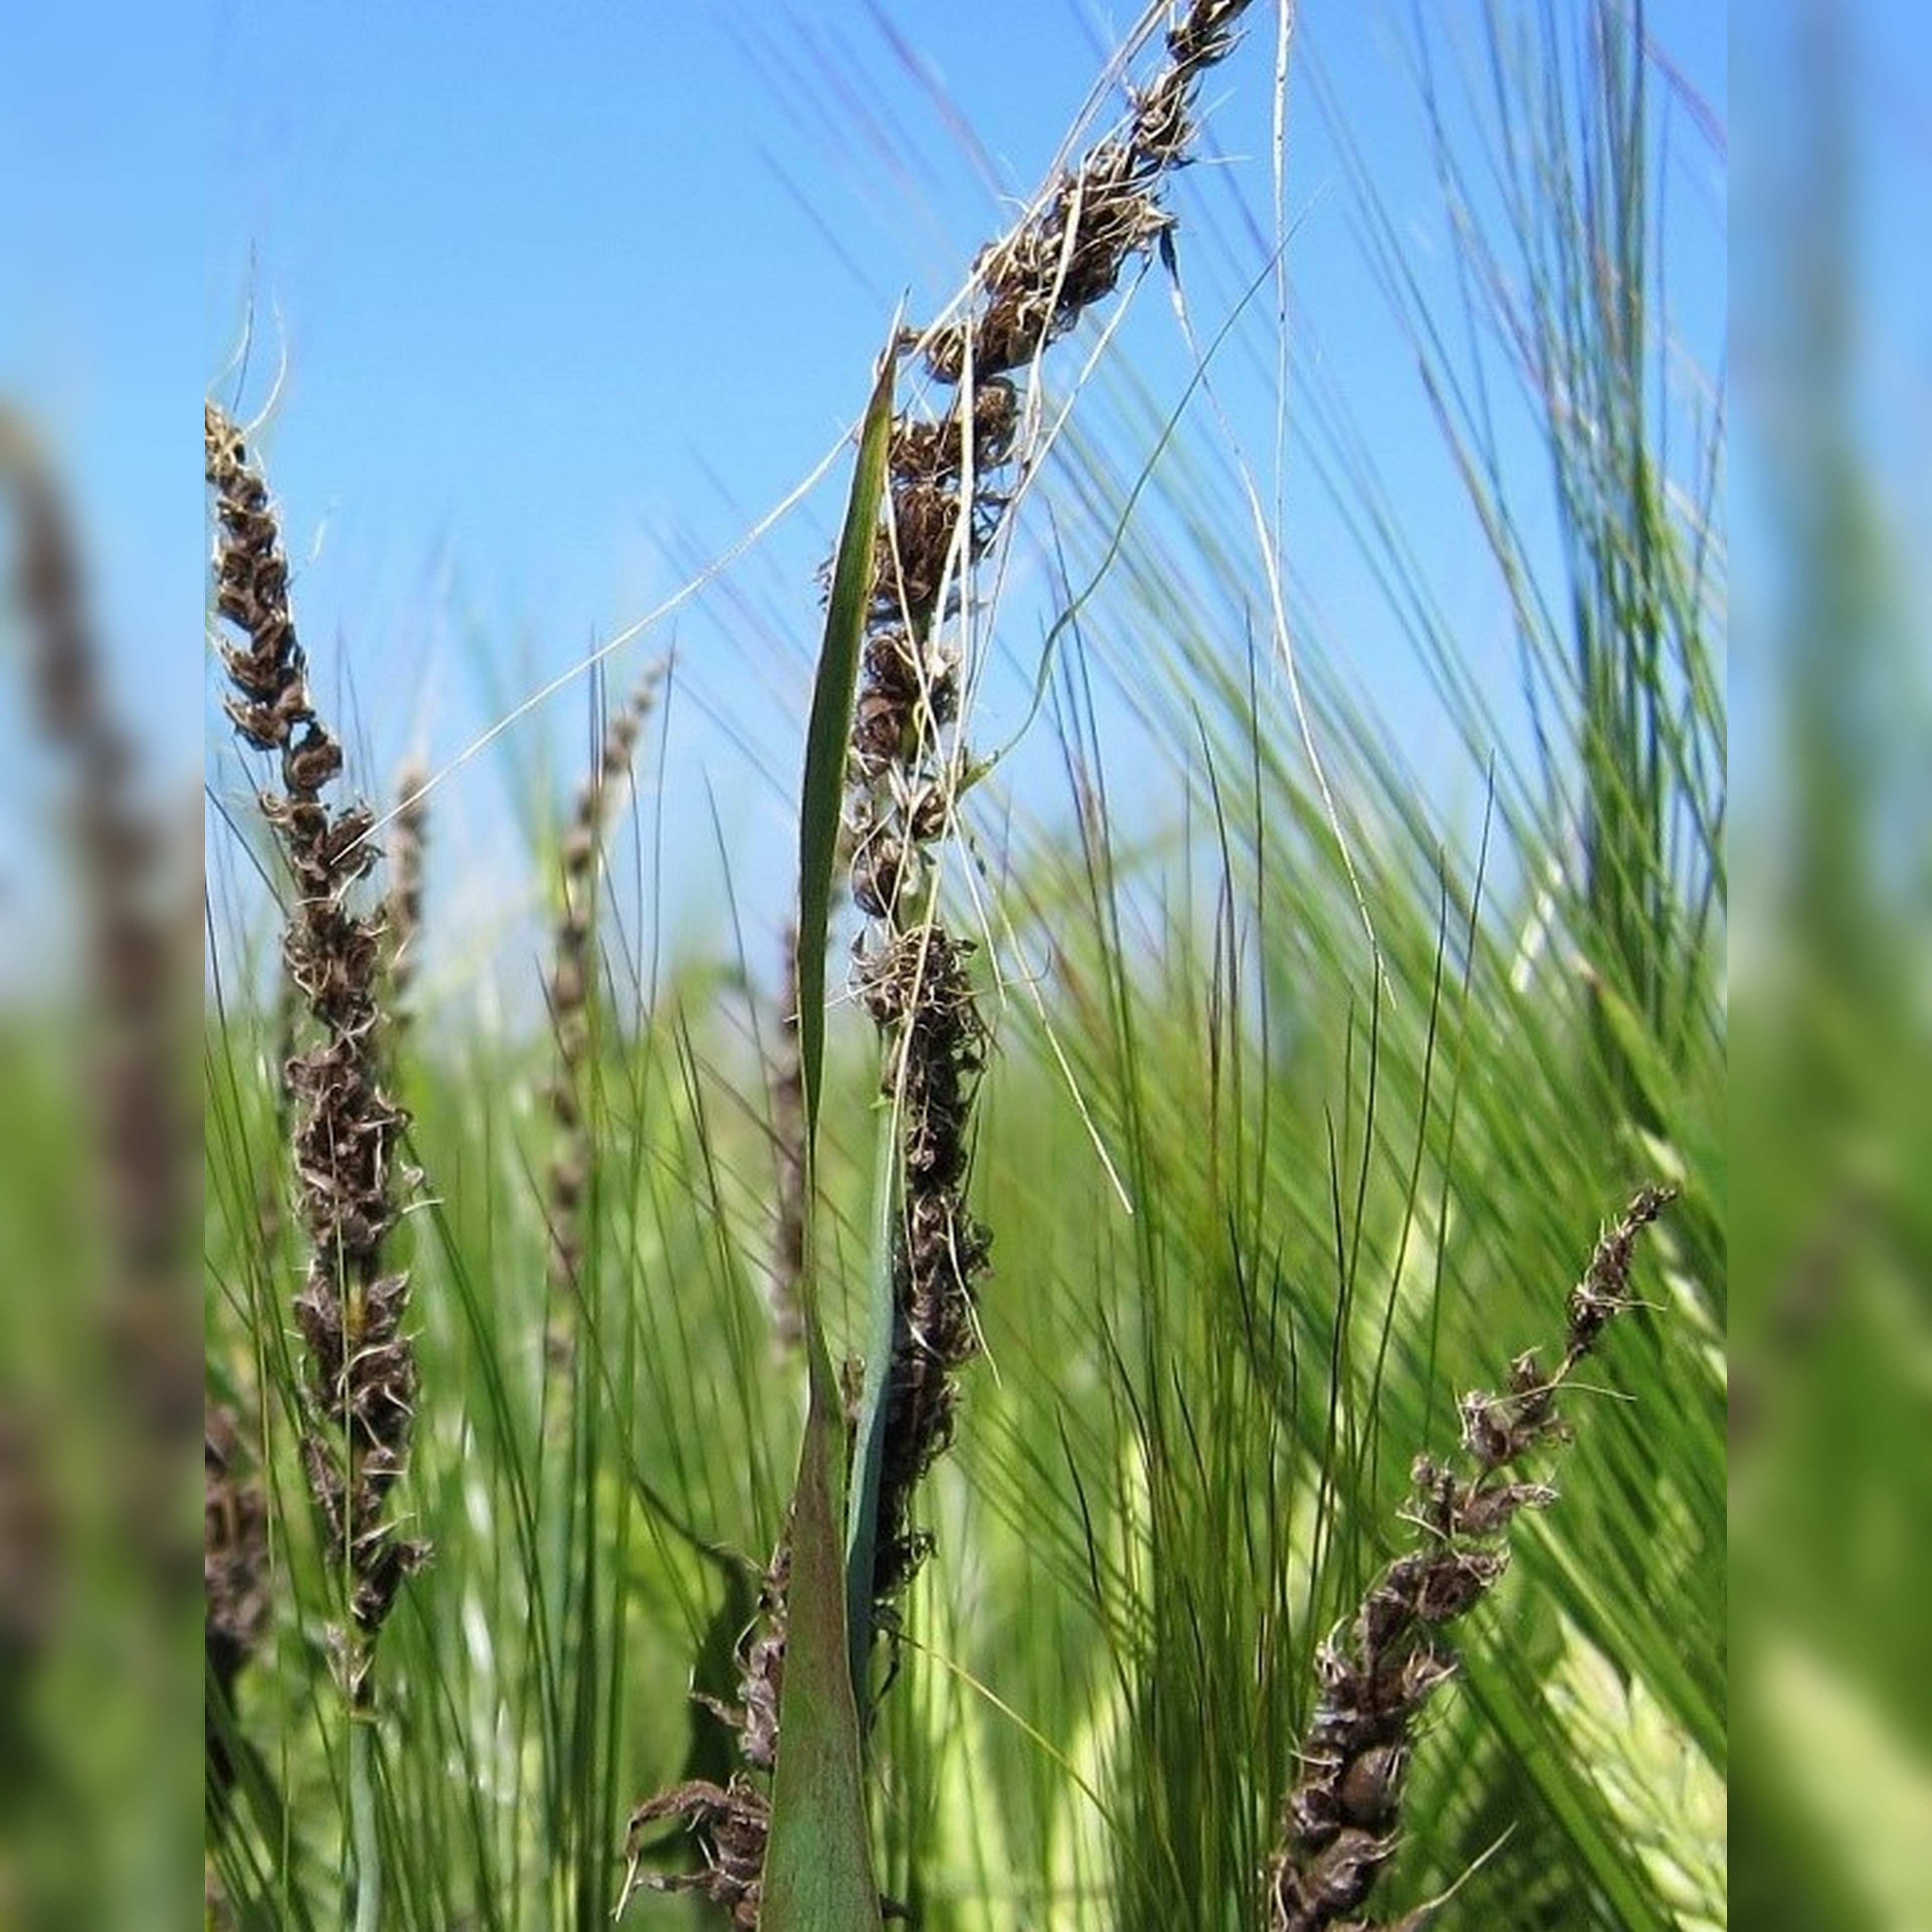Wheat Loose Smut: (824, 0, 1272, 853), (212, 425, 471, 1599)
